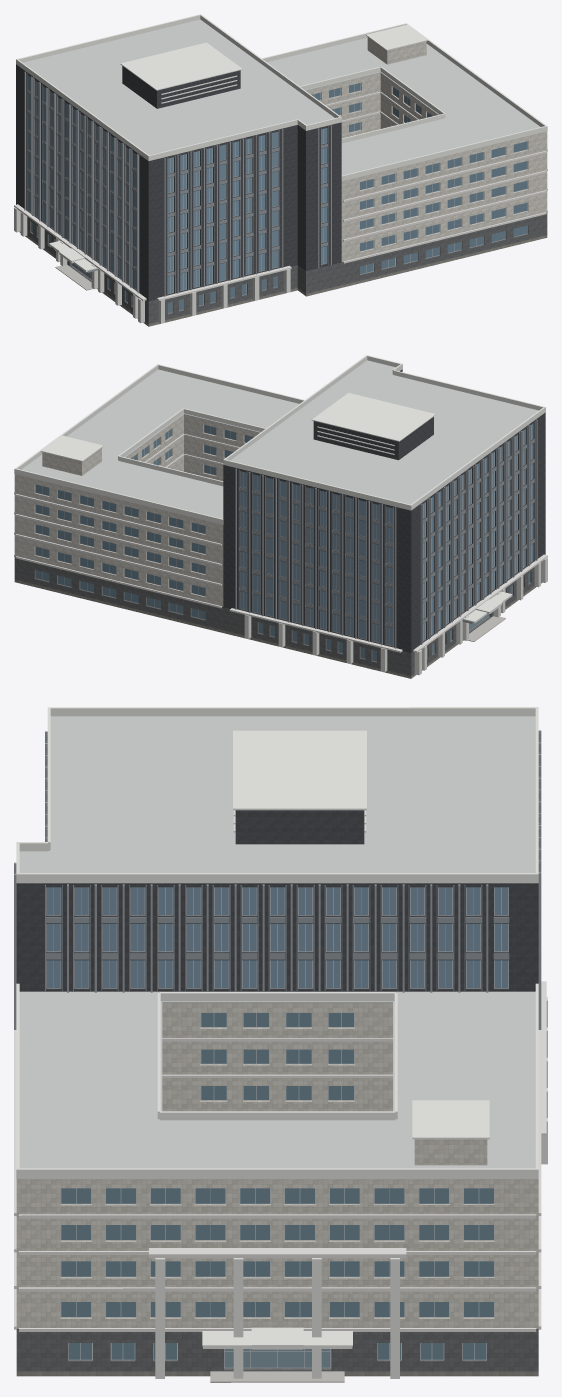
3 views of the same model, one above another, from view 1: azimuth 30°, elevation 25°; view 2: azimuth 150°, elevation 25°; view 3: azimuth 270°, elevation 25° (orthographic). The views are drawn at different scales.
Parts seen in each view (by area): view 1: main__roof, main__darkstone, main__whitelib, main__cap, main__mullion, main__curtainglass, main__fin, main__podium, main__glass, main__frame, main__trim, main__column (+2 smaller); view 2: main__roof, main__darkstone, main__whitelib, main__mullion, main__curtainglass, main__cap, main__fin, main__podium, main__frame, main__glass, main__trim, main__column (+2 smaller); view 3: main__roof, main__whitelib, main__cap, main__darkstone, main__glass, main__curtainglass, main__trim, main__podium, main__frame, main__mullion, main__fin, main__column (+3 smaller).
Part boxes in pixels (x1=…): main__roof: x1=23, y1=19, x2=539, y2=175; main__darkstone: x1=16, y1=64, x2=341, y2=301; main__whitelib: x1=306, y1=37, x2=547, y2=262; main__cap: x1=16, y1=14, x2=547, y2=270; main__mullion: x1=26, y1=73, x2=328, y2=295; main__curtainglass: x1=28, y1=76, x2=326, y2=293; main__fin: x1=24, y1=71, x2=331, y2=296; main__podium: x1=27, y1=212, x2=547, y2=323; main__glass: x1=31, y1=83, x2=527, y2=313; main__frame: x1=29, y1=81, x2=527, y2=313; main__trim: x1=14, y1=75, x2=547, y2=300; main__column: x1=14, y1=207, x2=290, y2=323; main__roof: x1=21, y1=360, x2=538, y2=518; main__darkstone: x1=223, y1=369, x2=545, y2=652; main__whitelib: x1=14, y1=414, x2=259, y2=606; main__mullion: x1=238, y1=421, x2=535, y2=647; main__curtainglass: x1=240, y1=424, x2=532, y2=645; main__cap: x1=14, y1=355, x2=545, y2=622; main__fin: x1=235, y1=419, x2=537, y2=648; main__podium: x1=14, y1=556, x2=534, y2=675; main__frame: x1=35, y1=423, x2=533, y2=661; main__glass: x1=35, y1=425, x2=530, y2=661; main__trim: x1=14, y1=426, x2=547, y2=652; main__column: x1=244, y1=557, x2=547, y2=675; main__roof: x1=19, y1=716, x2=535, y2=1168; main__whitelib: x1=16, y1=1003, x2=538, y2=1328; main__cap: x1=16, y1=707, x2=538, y2=1346; main__darkstone: x1=16, y1=810, x2=538, y2=991; main__glass: x1=61, y1=1013, x2=493, y2=1359; main__curtainglass: x1=47, y1=887, x2=508, y2=987; main__trim: x1=14, y1=810, x2=546, y2=1331; main__podium: x1=16, y1=1329, x2=538, y2=1371; main__frame: x1=46, y1=887, x2=508, y2=1368; main__mullion: x1=15, y1=733, x2=539, y2=991; main__fin: x1=14, y1=730, x2=541, y2=1347; main__column: x1=155, y1=997, x2=547, y2=1378.
Bounding box in the file's own units: 81.65 × 34.02 × 47.73.
Materials: 19 (6 with a texture image).
